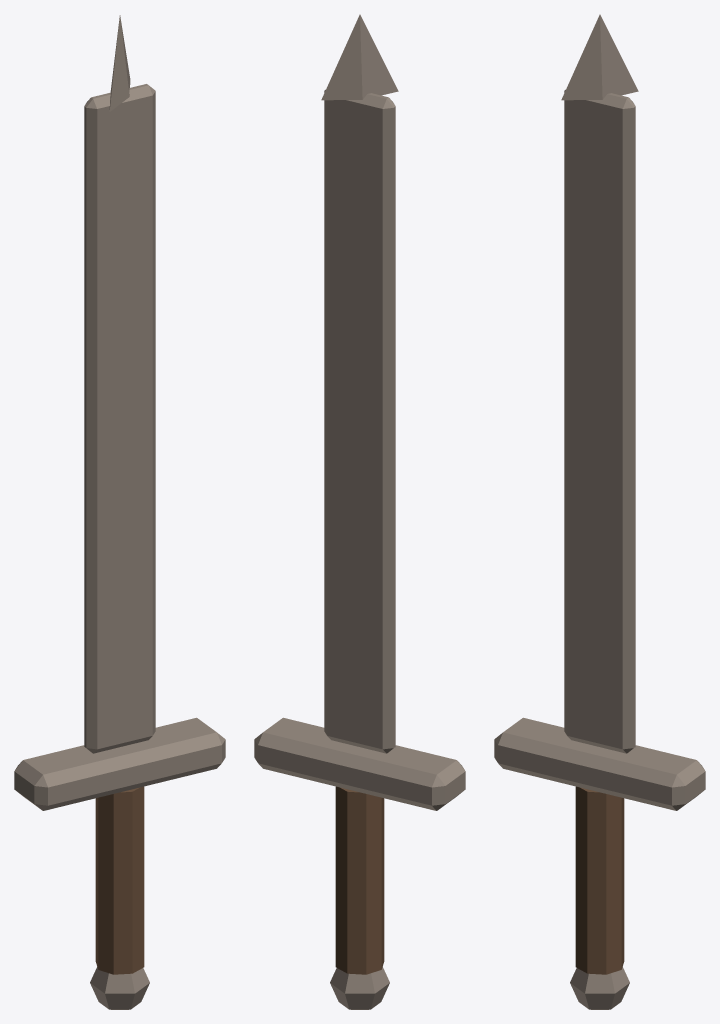
File: w_rusty.glb
3 views of the same model, side by side, from view 1: azimuth 30°, elevation 25°; view 2: azimuth 150°, elevation 25°; view 3: azimuth 330°, elevation 25° (orthographic).
Parts seen in each view (by area): view 1: w_rusty; view 2: w_rusty; view 3: w_rusty.
Part boxes in pixels (left/top/right/bottom): w_rusty: left=14, top=15, right=225, bottom=1009; w_rusty: left=254, top=14, right=465, bottom=1009; w_rusty: left=494, top=14, right=705, bottom=1009.
Bounding box in the file's own units: 0.22 × 1.09 × 0.06.
